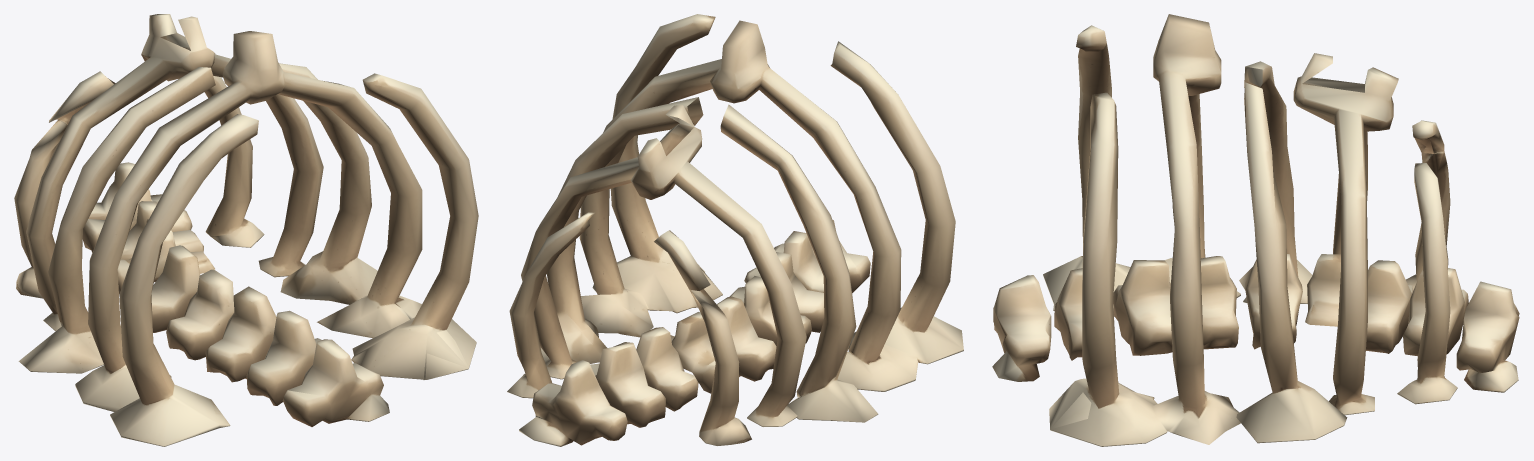
3 views of the same model, side by side, from view 1: azimuth 30°, elevation 25°; view 2: azimuth 150°, elevation 25°; view 3: azimuth 270°, elevation 25° (orthographic). The views are drawn at different scales.
Visible parts, largest first — view 1: desert-ribs; view 2: desert-ribs; view 3: desert-ribs.
Part boxes in pixels (bbox=[...]): desert-ribs: bbox=[14, 14, 478, 446]; desert-ribs: bbox=[507, 14, 963, 446]; desert-ribs: bbox=[992, 14, 1519, 446].
Size of the model in its own units: 0.8239 by 0.7104 by 1.
Materials: 1 (1 with a texture image).
